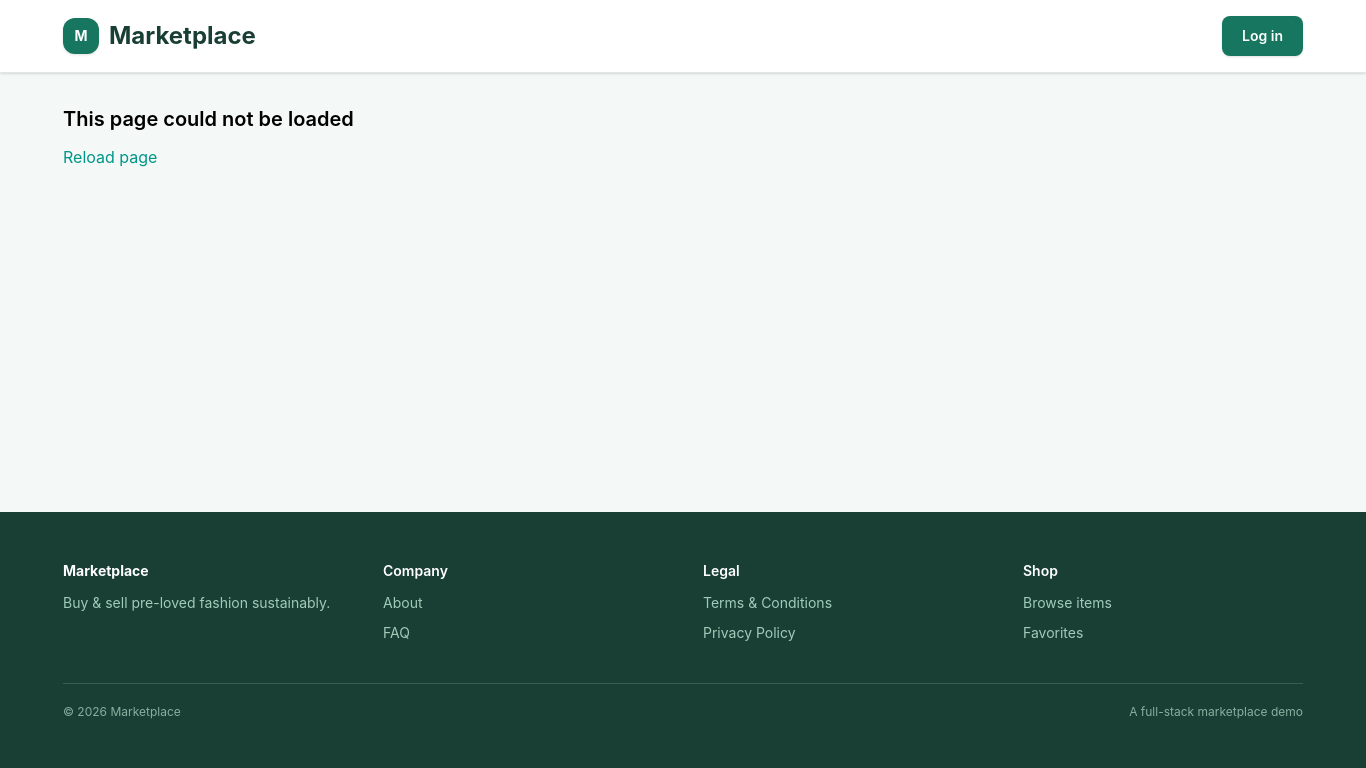
keeps navigation usable after a route fails and resets on navigation
Expected: the message shows "This page could not be loaded", x1=63 y1=107 x2=354 y2=131
Click the link "Log in".
click(1262, 36)  # box x1=1222 y1=16 x2=1303 y2=56
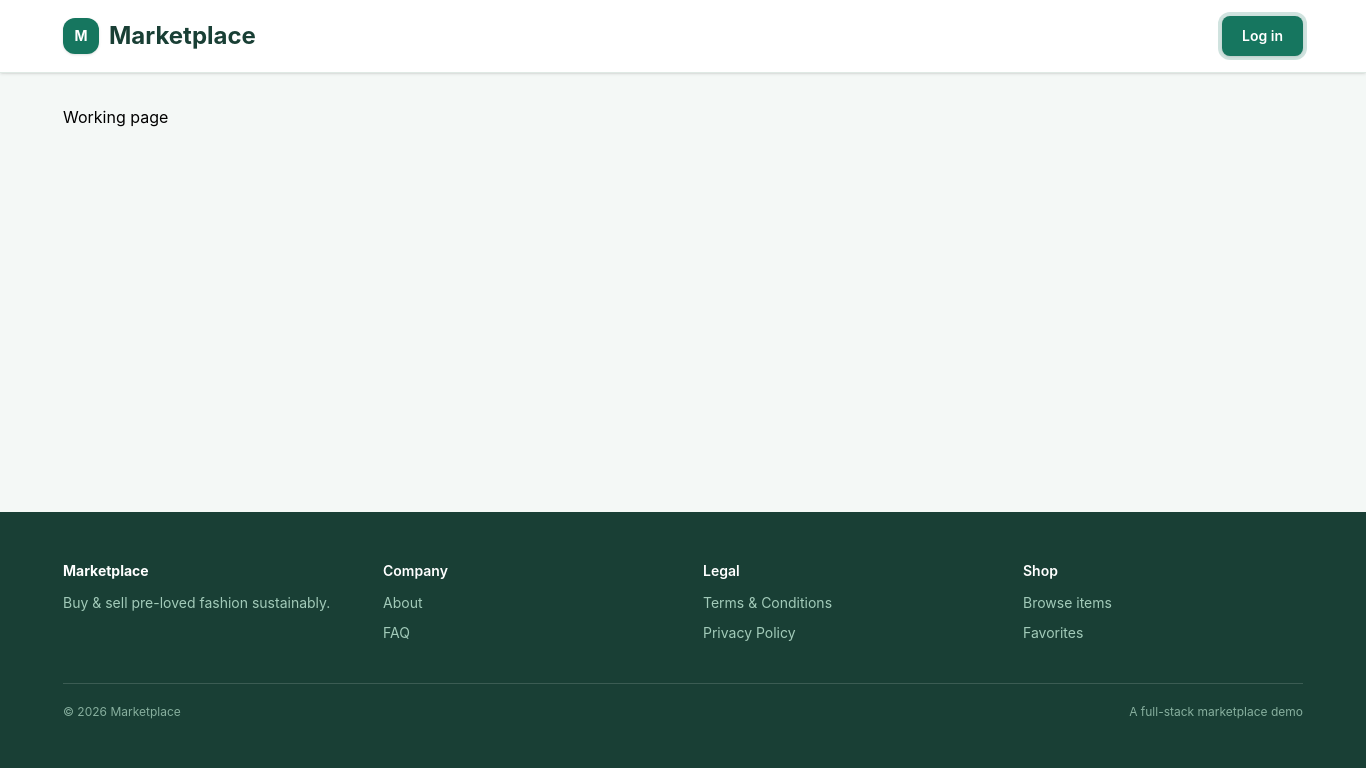
Result: the heading "Working page" is shown at x1=63 y1=107 x2=168 y2=127
